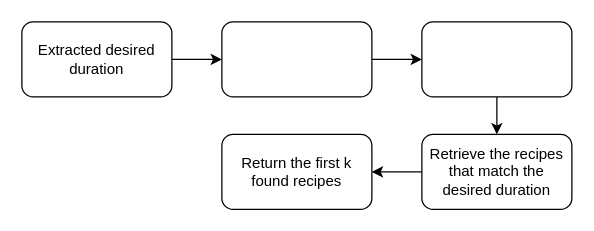
Some shapes in this 594 by 231 pixel diagram are drawn without their labels. Here are the shapes that lost their labels. From the top down, the centre of each, then its label:
the point at 296,59: Build the query with the desired duration
the point at 496,59: Search for each recipe and find a matching duration
